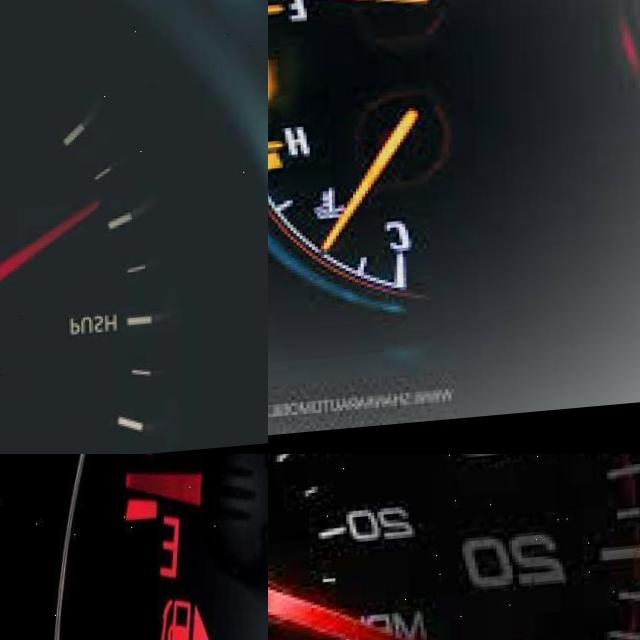High Engine Coolant Temperature: (313, 189, 345, 227)
